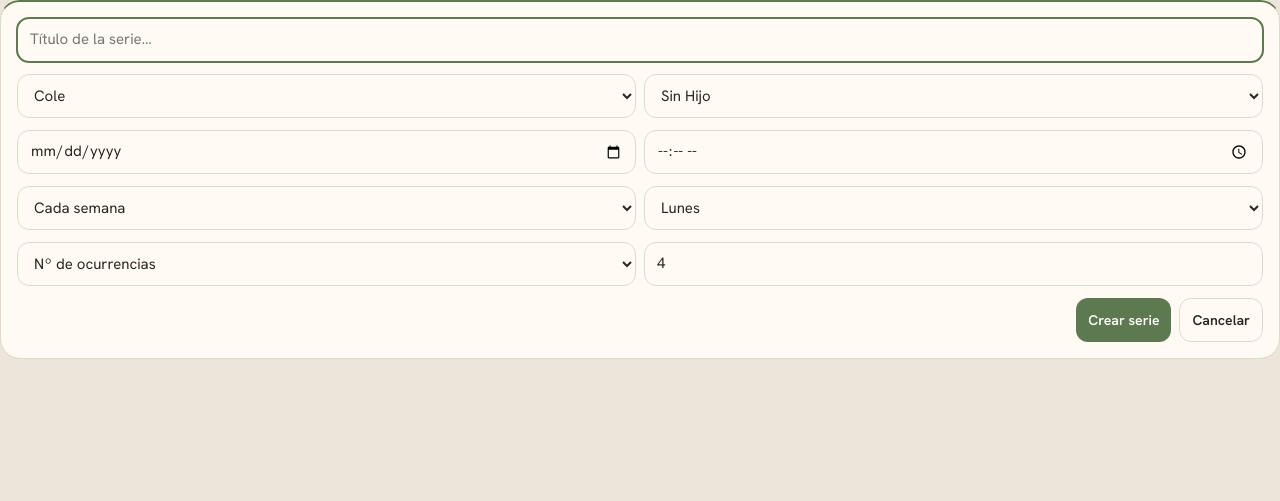
SeriesForm — preview de ocurrencias › muestra la preview de fechas mientras se edita (weekly + max_count)
The image size is (1280, 501).
Type "Extraescolar" into the field labelled "Título". click: (640, 40)
box: [17,18,1263,62]
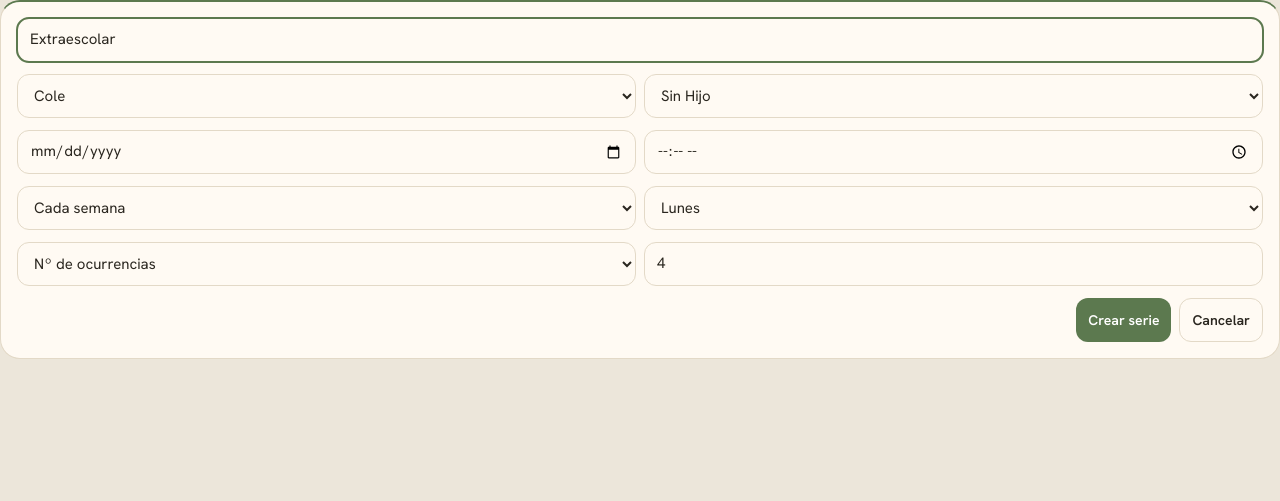
Type "2030-01-07" into the date field named "Comienza el". click: (326, 152)
box: [17,130,636,174]
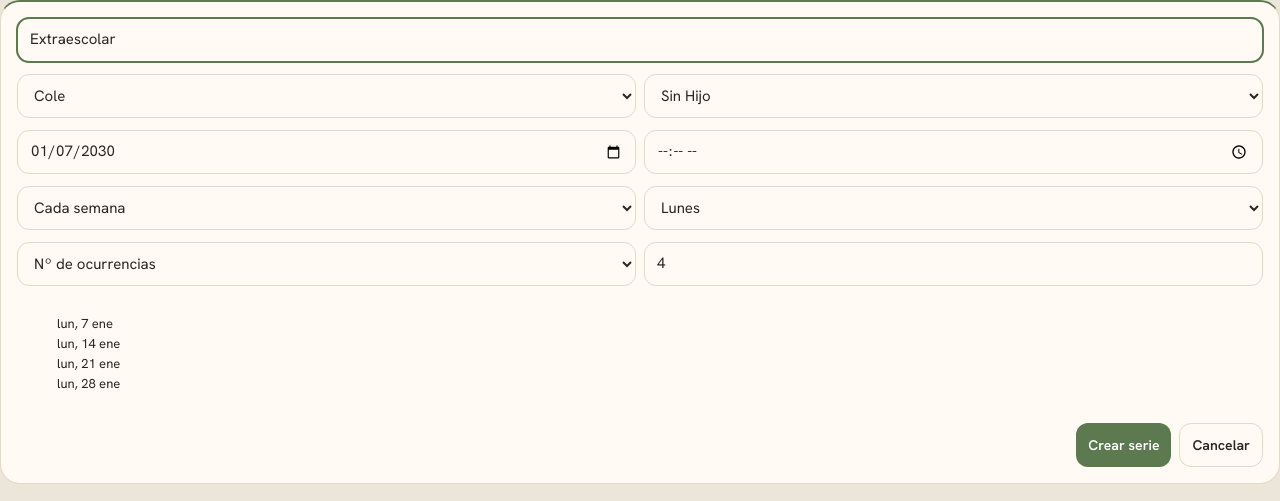
Select "Cada semana" in the dropdown named "Repetir". click: (326, 208)
box: [17,186,636,230]
Select "Lunes" in the dropdown named "Día de la semana". click: (954, 208)
box: [644,186,1263,230]
Select "Nº de ocurrencias" in the dropdown named "Termina". click: (326, 264)
box: [17,242,636,286]
Replace the text in the number field named "Nº de ocurrencias" with "3". click: (954, 264)
box: [644,242,1263,286]
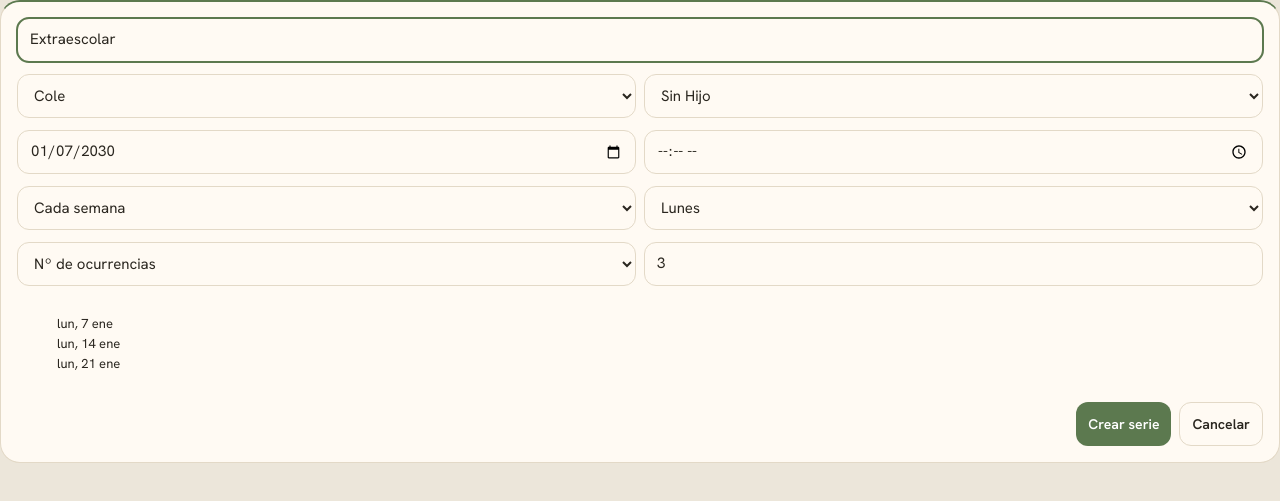
Now the list item "lun, 7 ene" is shown, box [57,315,113,332]
Now the list item "lun, 14 ene" is shown, box [57,335,120,352]
Now the number of list items is 3, box [57,315,113,332]; [57,335,120,352]; [57,355,120,372]
